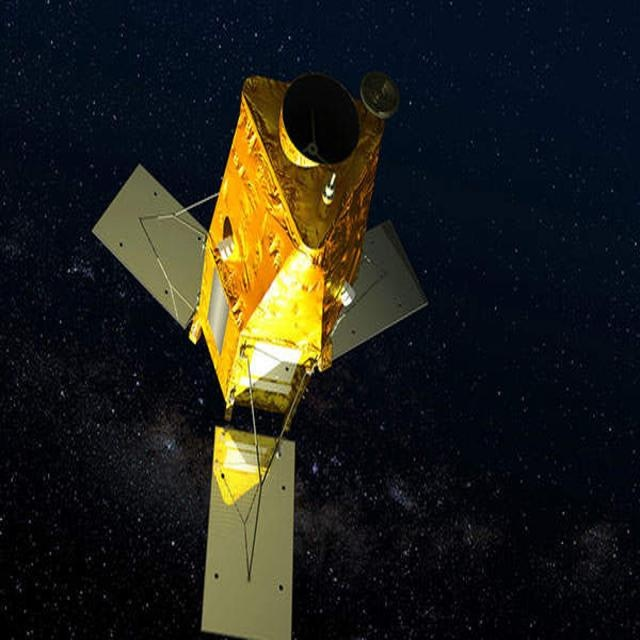medium_debris: (86, 50, 432, 640)
